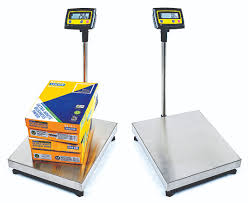Industrial Scale: (6, 7, 117, 198), (131, 7, 241, 197)
